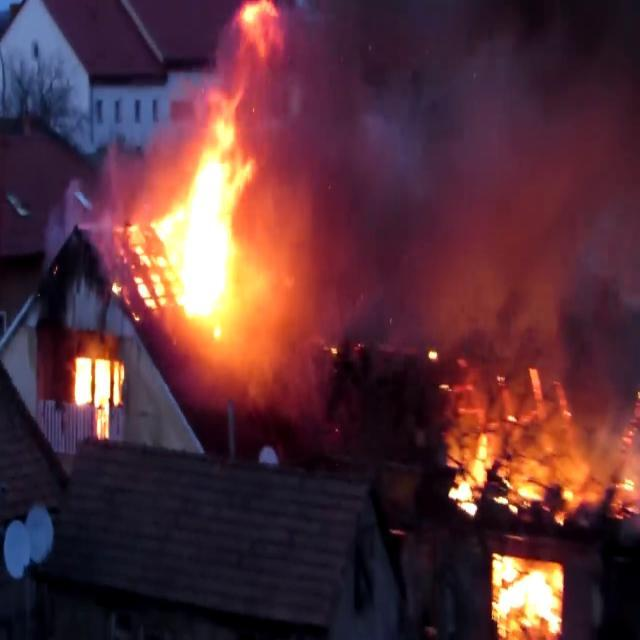Fire: (128, 32, 286, 340), (446, 428, 562, 516), (485, 551, 571, 637), (68, 338, 126, 434)
Smoke: (252, 1, 640, 324)
